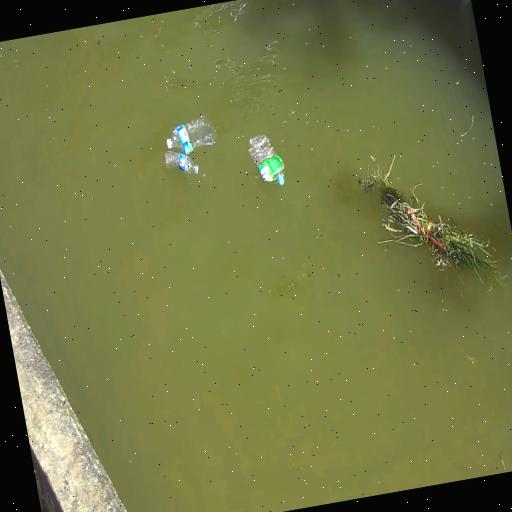plastic: (246, 132, 295, 198), (158, 108, 223, 156), (160, 146, 202, 176)
twig: (384, 156, 487, 283)
